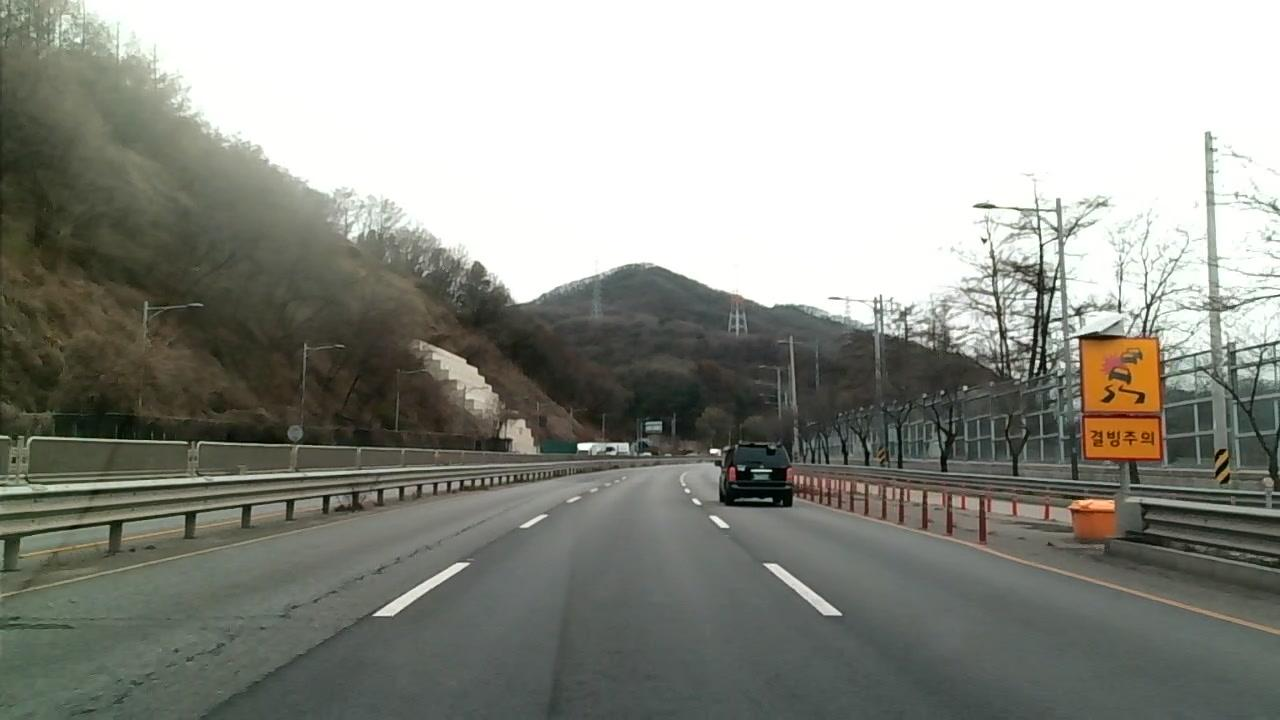banner: (275, 506, 498, 622), (48, 628, 236, 720), (3, 610, 87, 637)
